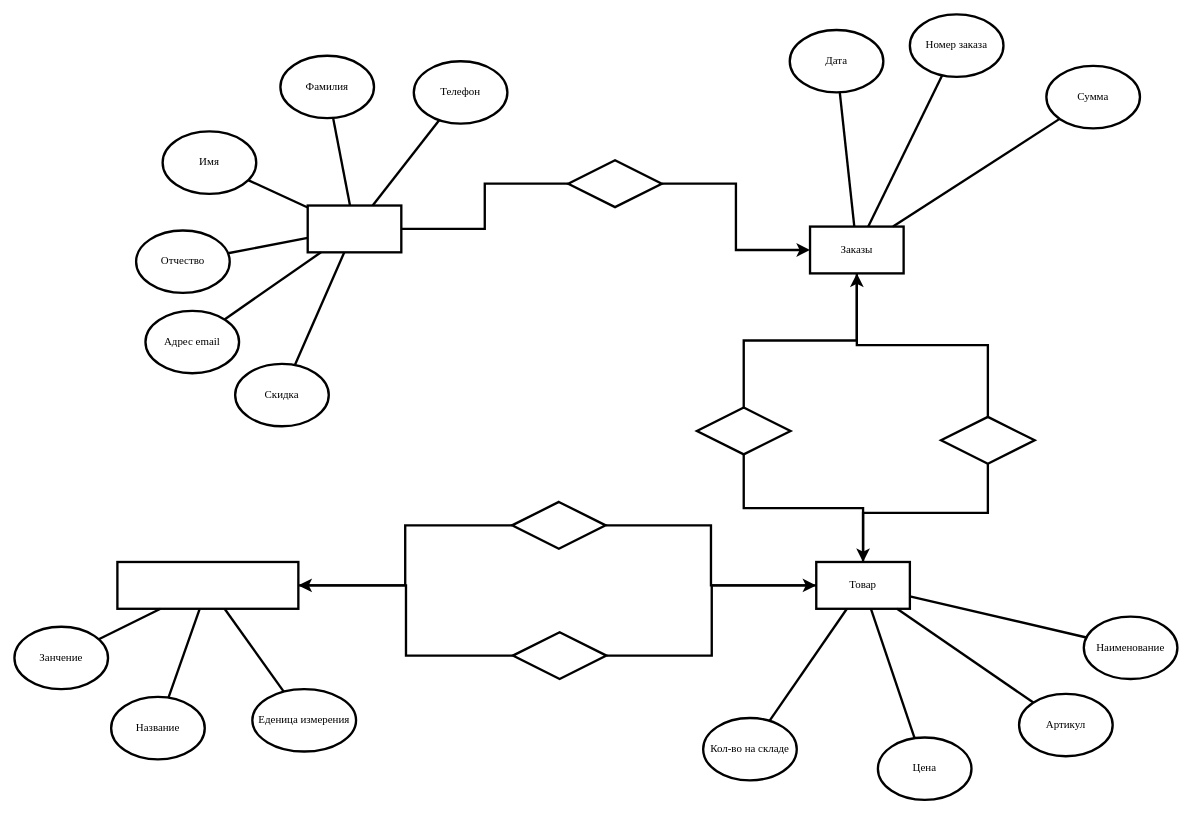
This 1192x814 diagram has some shape labels left out. The centre of each missing label's shape, as x and y in pixels:
Входят в: [987,439]
Есть у: [558,525]
Заказывает: [615,183]
Имеет: [559,655]
Клиент: [354,228]
Состоит из: [743,430]
Техническая характеристика: [207,585]
